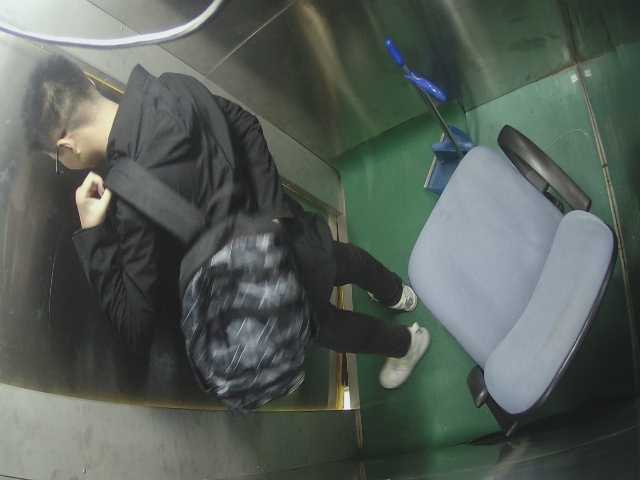bag: (161, 211, 329, 416)
broom: (375, 33, 481, 178)
chair: (399, 111, 614, 430)
person: (22, 49, 425, 383)
